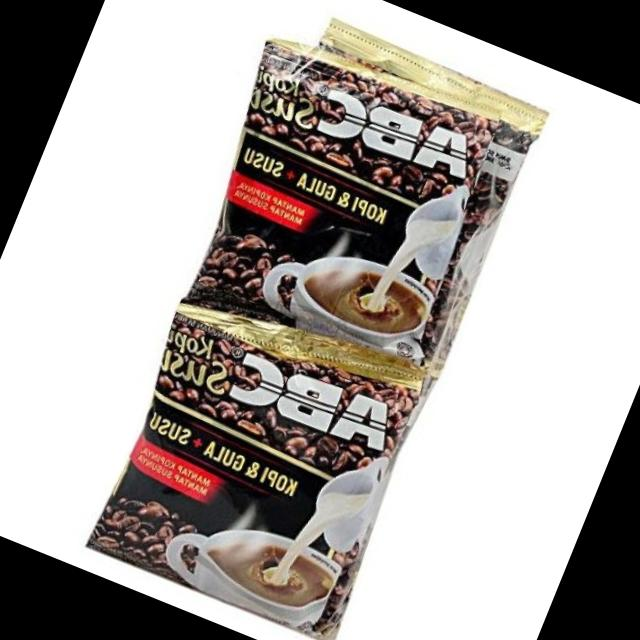KemasanPlastik: (66, 3, 550, 640)
